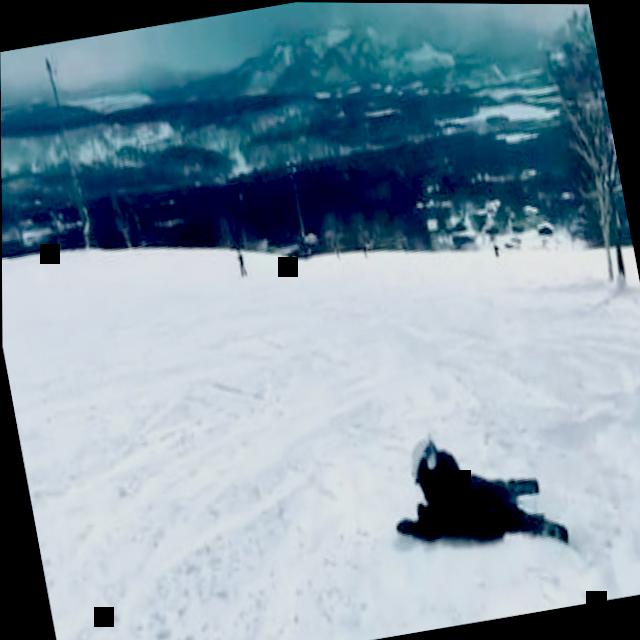Fall-Detected: (377, 396, 581, 579)
